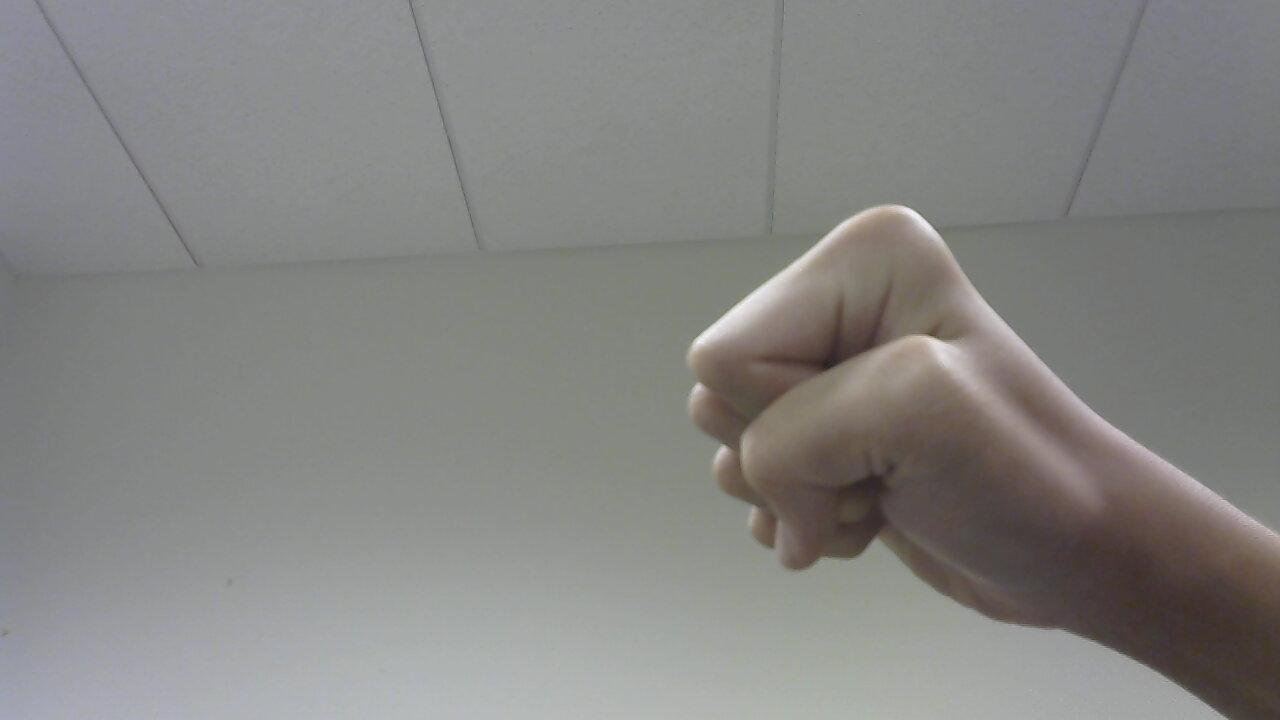fist: (661, 177, 1140, 659)
